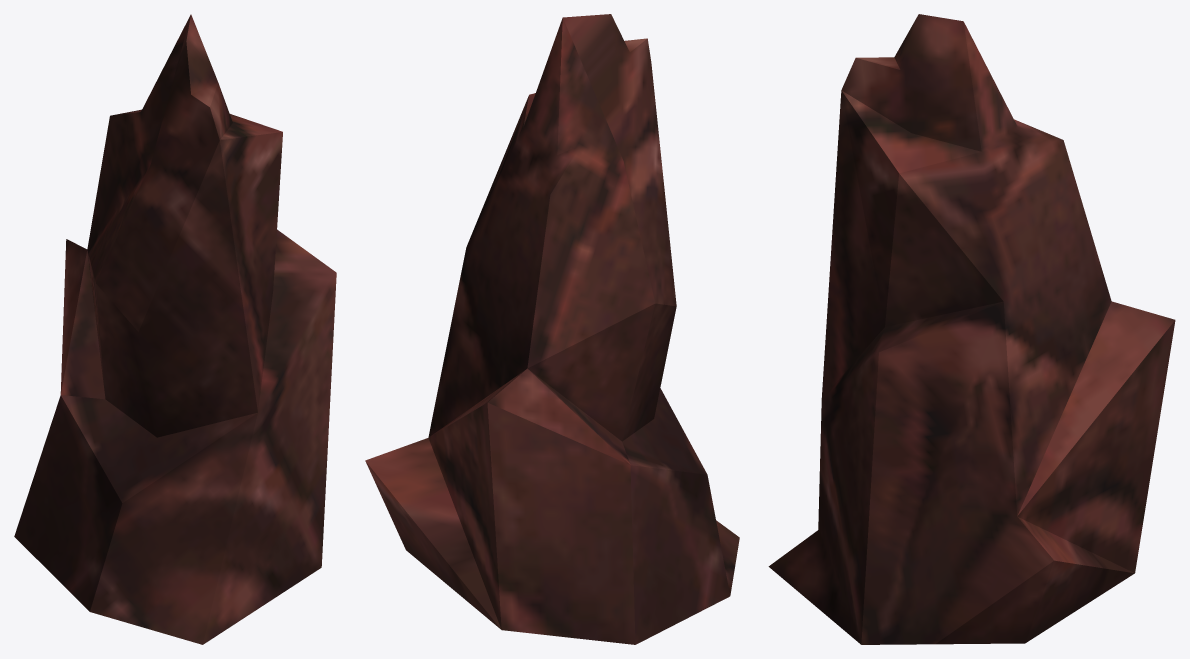
Rendered from stalacmite_tall03.fbx.
3 views of the same model, side by side, from view 1: azimuth 30°, elevation 25°; view 2: azimuth 150°, elevation 25°; view 3: azimuth 270°, elevation 25° (orthographic). The views are drawn at different scales.
Visible parts, largest first — view 1: 09_-_Default; view 2: 09_-_Default; view 3: 09_-_Default.
Boxes of the visible parts, box(x1,y1,x2,y2) form: 09_-_Default: box(14, 14, 336, 644); 09_-_Default: box(365, 14, 739, 644); 09_-_Default: box(768, 14, 1175, 644).
Bounding box in the file's own units: 1.37 × 2.57 × 1.62.
